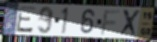1: (60, 7, 70, 35)
6: (80, 8, 97, 36)
9: (37, 6, 54, 35)
E: (15, 6, 37, 34)
F: (99, 9, 122, 36)
X: (118, 8, 142, 38)
